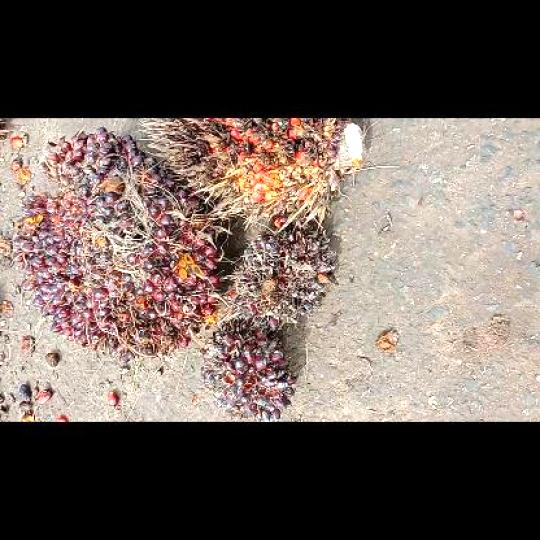masak: (9, 123, 222, 365)
terlalu masak: (132, 119, 369, 229)
